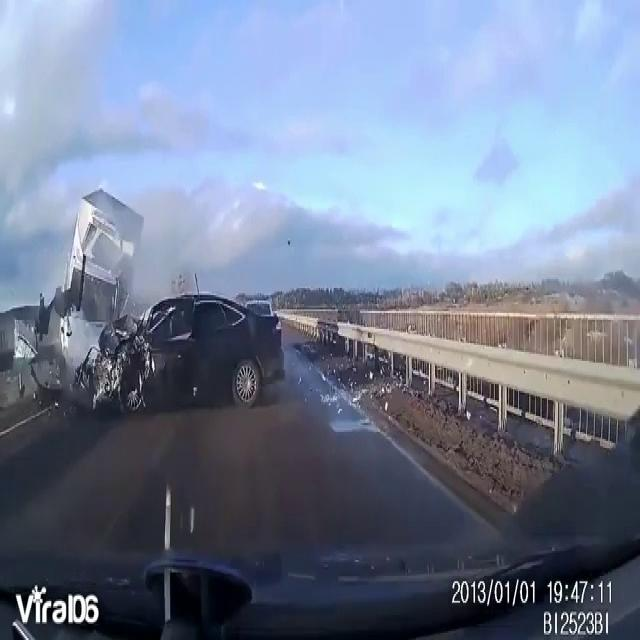accident: (39, 176, 288, 423)
